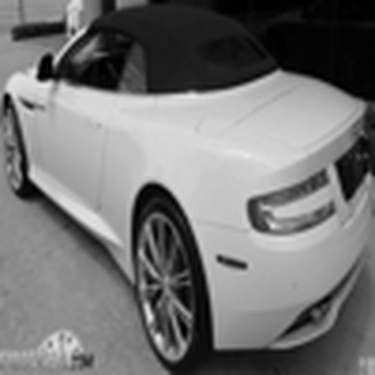car: (3, 13, 366, 349)
